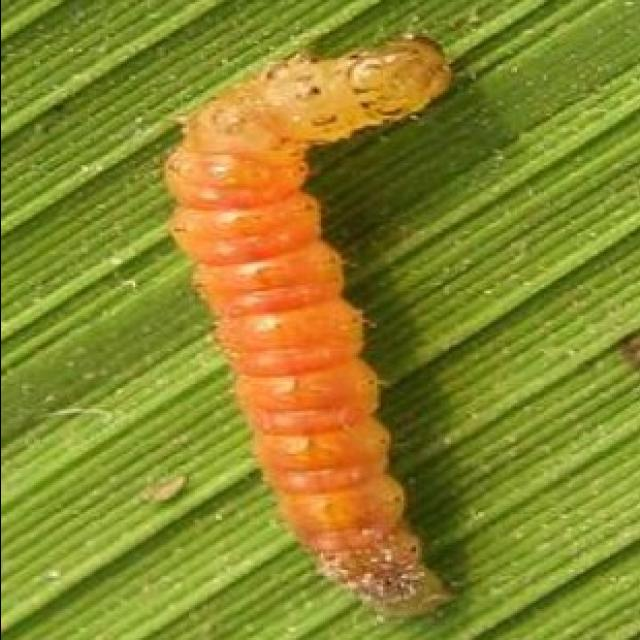rice leaf roller: (163, 39, 448, 617)
